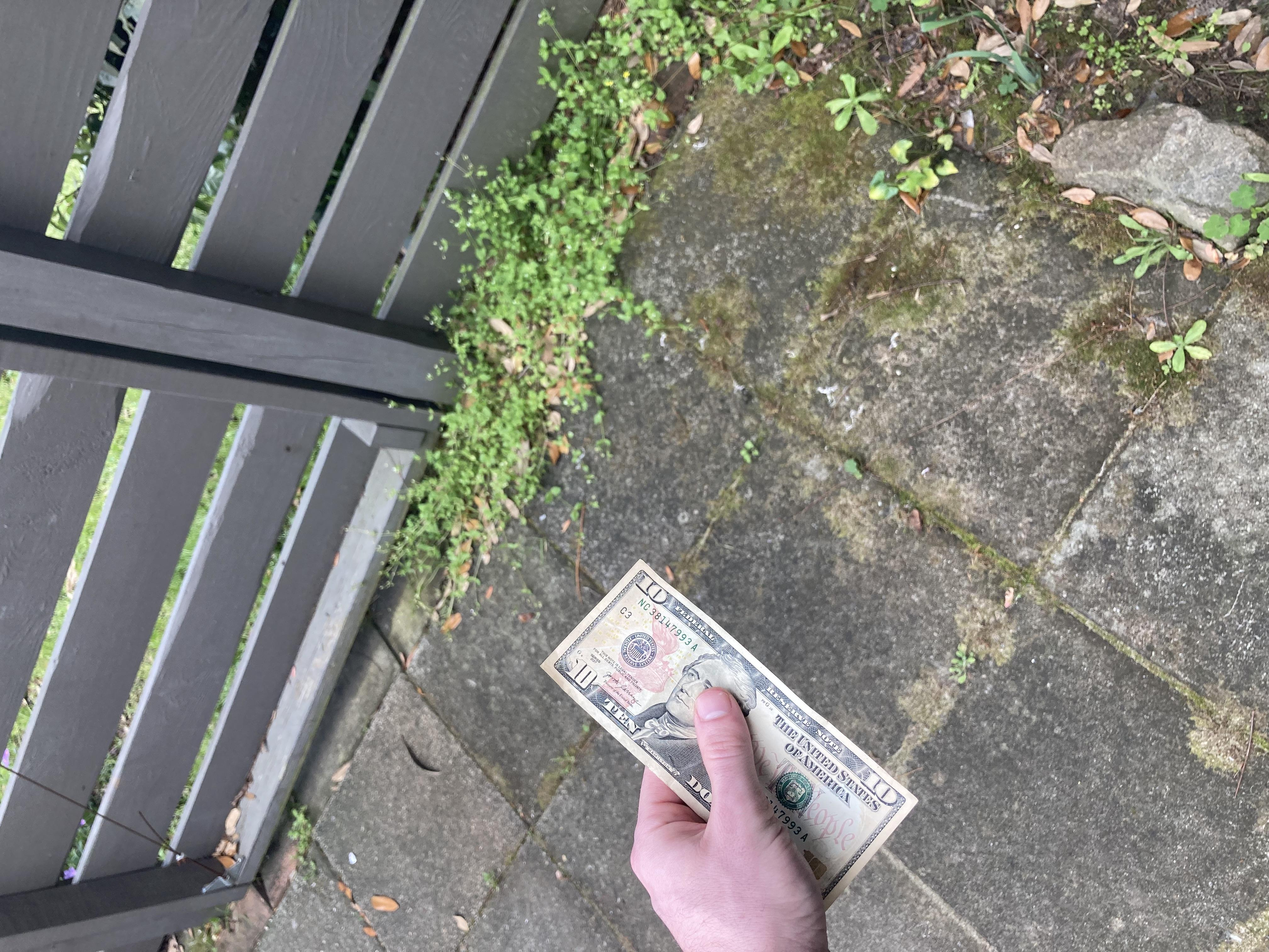ten-front: (42, 404, 527, 692)
